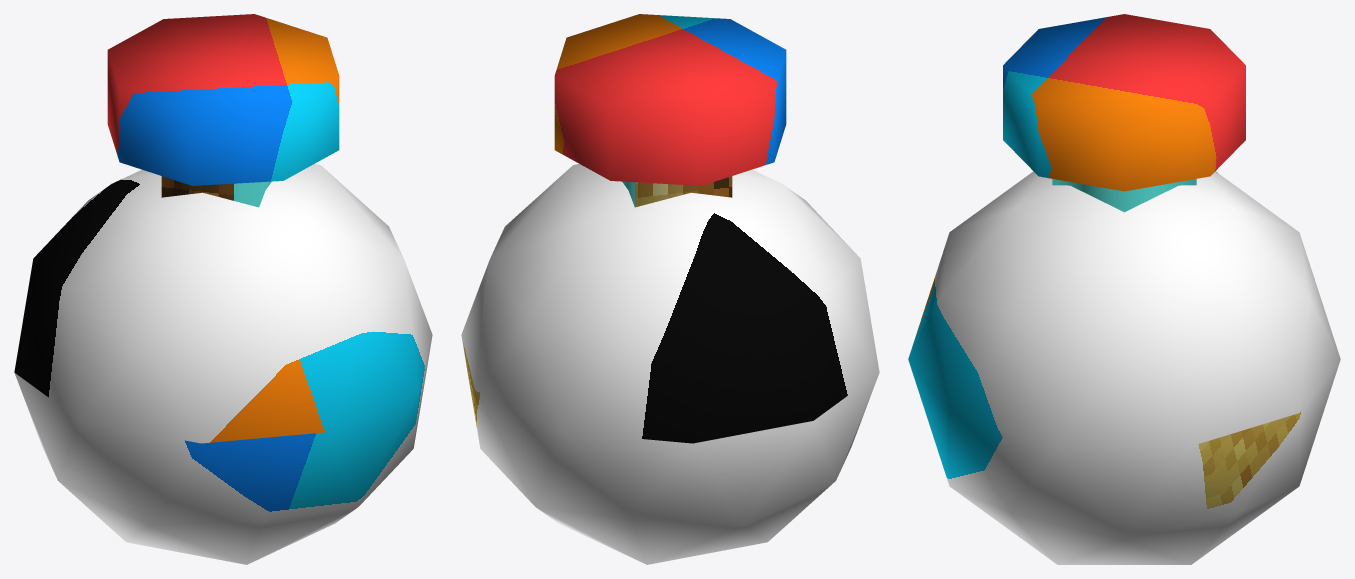
File: bottle.FBX
3 views of the same model, side by side, from view 1: azimuth 30°, elevation 25°; view 2: azimuth 150°, elevation 25°; view 3: azimuth 270°, elevation 25° (orthographic).
Visible parts, largest first — view 1: bottle; view 2: bottle; view 3: bottle.
Part boxes in pixels (x1,y1,x2,y2): bottle: (14, 14, 432, 564); bottle: (461, 14, 879, 564); bottle: (908, 14, 1340, 564).
Bounding box in the file's own units: 28.53 × 37.5 × 30.
